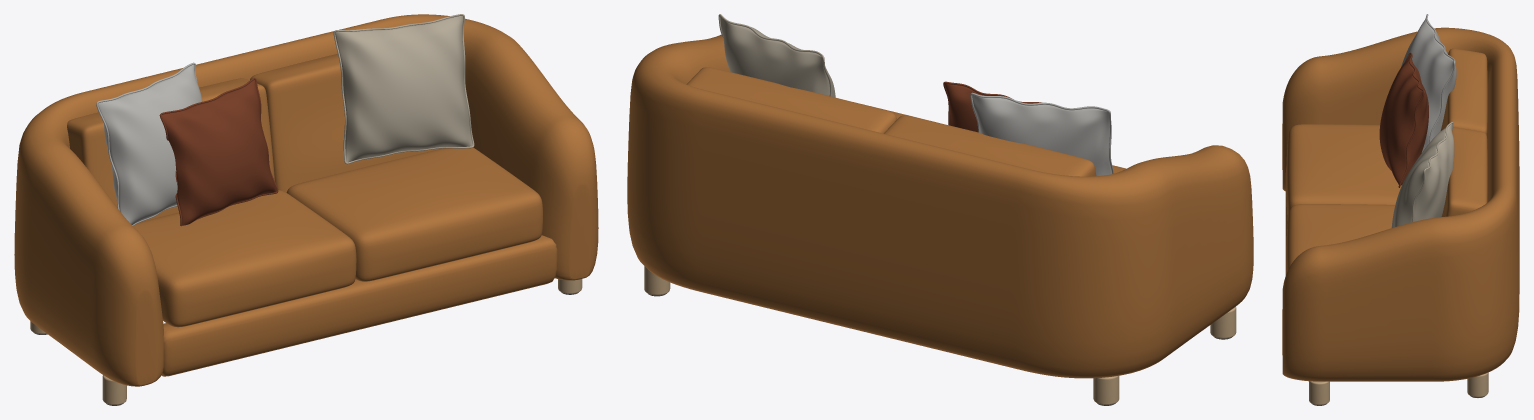
Rendered from sofa.glb.
The picture shows the model from 3 angles, left to right: view 1: azimuth 30°, elevation 25°; view 2: azimuth 150°, elevation 25°; view 3: azimuth 270°, elevation 25°; orthographic projection. The views are drawn at different scales.
Visible parts, largest first — view 1: Fabric_Shell, Fabric_SeatR, Fabric_SeatL, Fabric_Base, Pillow_Linen, Pillow_RustVelvet, Fabric_BackR, Pillow_GreyBoucle, Fabric_BackL, Pillow_Linen_Piping, Pillow_RustVelvet_Piping, Pillow_GreyBoucle_Piping (+1 smaller); view 2: Fabric_Shell, Pillow_GreyBoucle, Fabric_BackR, Fabric_BackL, Pillow_Linen, Pillow_RustVelvet, Leg_RearL, Leg_FrontL, Pillow_GreyBoucle_Piping; view 3: Fabric_Shell, Fabric_SeatL, Fabric_SeatR, Pillow_RustVelvet, Pillow_Linen, Fabric_BackR, Fabric_BackL, Pillow_GreyBoucle, Leg_FrontR, Leg_RearR, Pillow_RustVelvet_Piping, Pillow_GreyBoucle_Piping (+2 smaller).
Boxes of the visible parts, x1,y1,x2,y2 form: Fabric_Shell: (14, 14, 598, 386); Fabric_SeatR: (286, 147, 542, 281); Fabric_SeatL: (133, 190, 356, 327); Fabric_Base: (161, 235, 557, 376); Pillow_Linen: (335, 16, 472, 162); Pillow_RustVelvet: (161, 80, 276, 225); Fabric_BackR: (250, 53, 440, 192); Pillow_GreyBoucle: (98, 64, 202, 224); Fabric_BackL: (67, 78, 274, 221); Pillow_Linen_Piping: (333, 14, 474, 164); Pillow_RustVelvet_Piping: (159, 78, 278, 226); Pillow_GreyBoucle_Piping: (96, 62, 197, 225); Fabric_Shell: (627, 34, 1253, 378); Pillow_GreyBoucle: (972, 95, 1112, 176); Fabric_BackR: (686, 67, 896, 133); Fabric_BackL: (884, 115, 1096, 176); Pillow_Linen: (720, 16, 835, 97); Pillow_RustVelvet: (945, 83, 990, 132); Leg_RearL: (1093, 375, 1119, 404); Leg_FrontL: (1210, 306, 1236, 338); Pillow_GreyBoucle_Piping: (970, 92, 1113, 173); Fabric_Shell: (1282, 27, 1519, 381); Fabric_SeatL: (1286, 124, 1401, 220); Fabric_SeatR: (1286, 204, 1395, 273); Pillow_RustVelvet: (1379, 54, 1428, 185); Pillow_Linen: (1391, 123, 1454, 227); Fabric_BackR: (1441, 127, 1487, 216); Fabric_BackL: (1440, 48, 1487, 135); Pillow_GreyBoucle: (1401, 18, 1456, 152); Leg_FrontR: (1309, 381, 1329, 405); Leg_RearR: (1467, 372, 1488, 397); Pillow_RustVelvet_Piping: (1398, 52, 1424, 187); Pillow_GreyBoucle_Piping: (1425, 14, 1455, 142).
Bounding box in the file's own units: 1.9 × 0.8927 × 0.8973.
